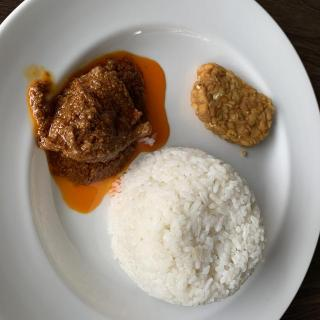Nasi: (108, 150, 265, 307)
